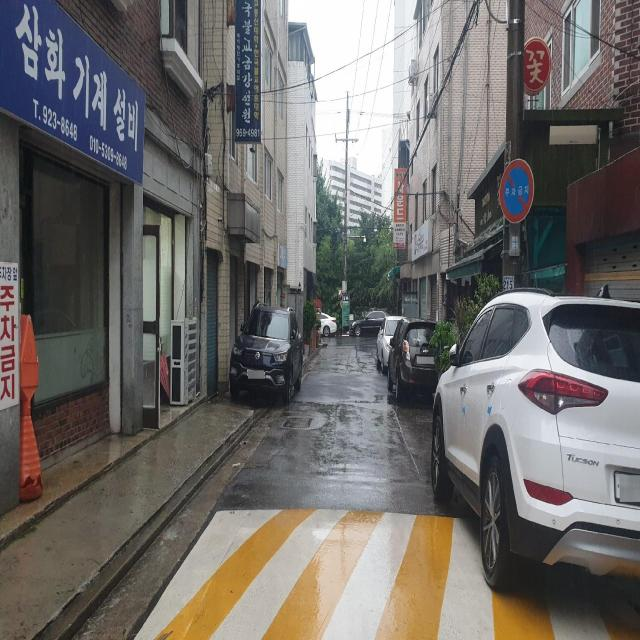car ahead at: (437, 285, 640, 588), (225, 301, 303, 410)
zebra crossing ahead at: (131, 514, 637, 639)
